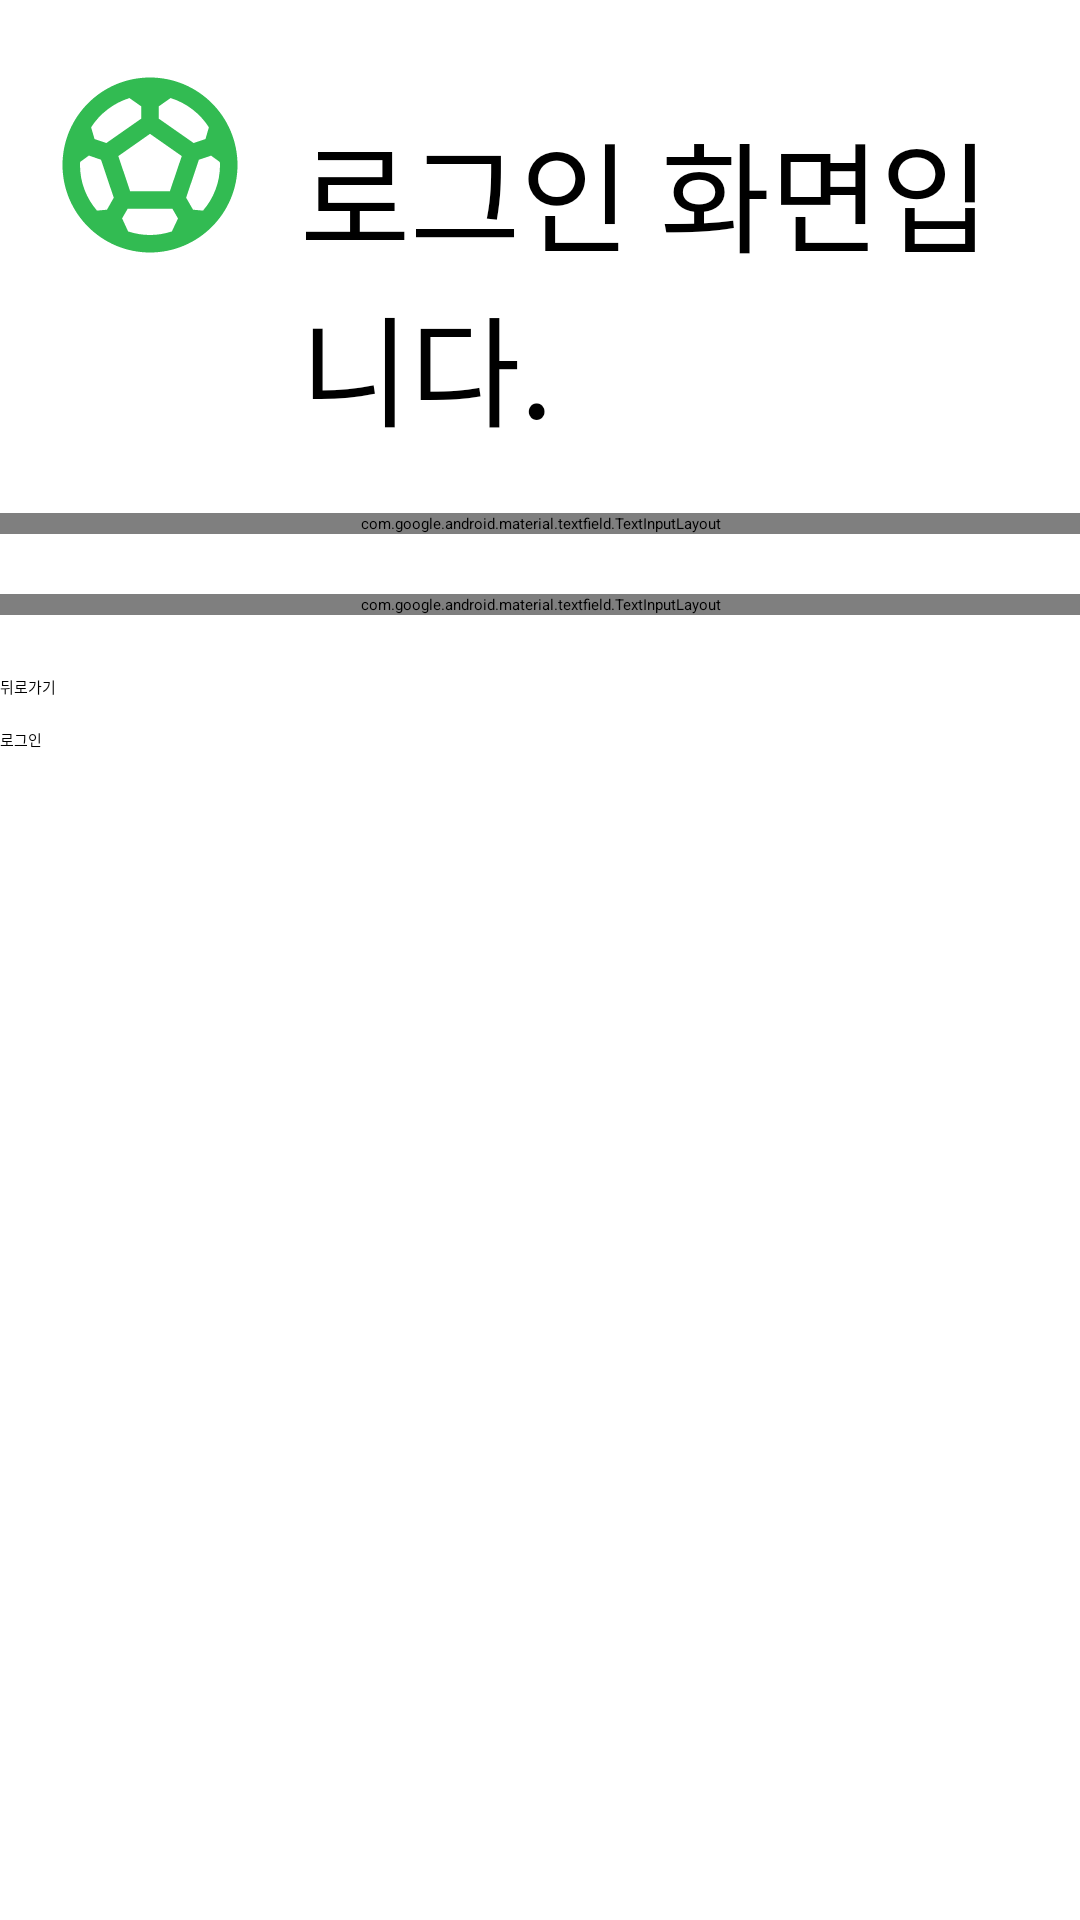

Where icons sit on this 1080×1920 app screen, as (x1, y1, x2, y2):
sports soccer: (62, 77, 238, 253)
